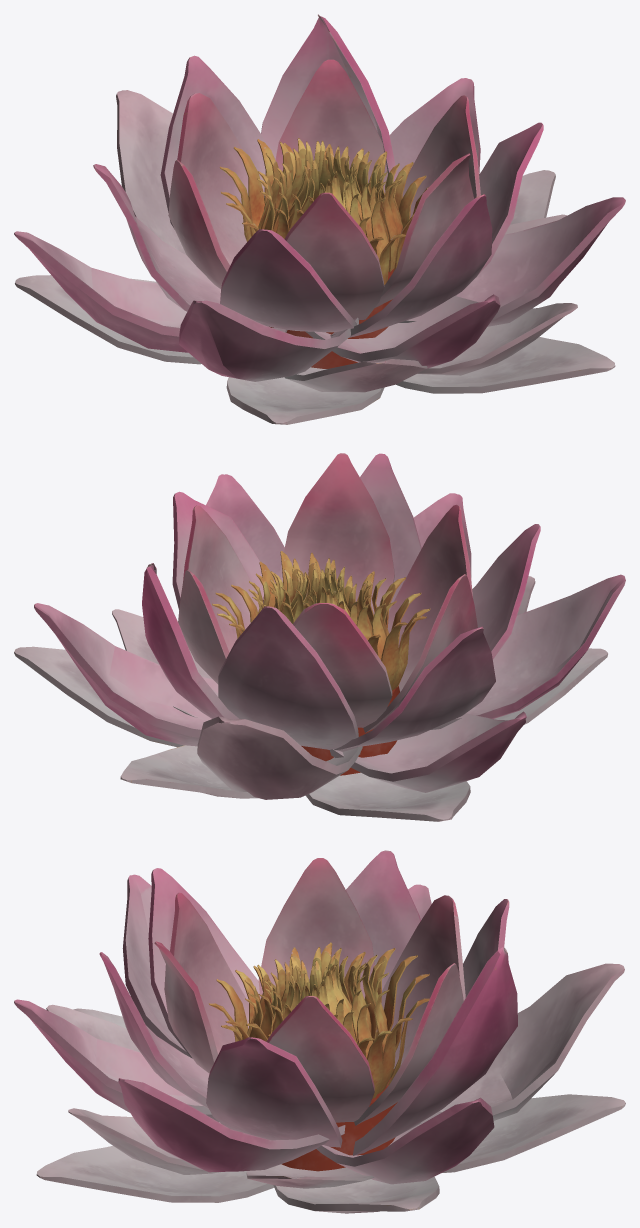
Rendered from lily 3.fbx.
3 renders of one model, top to bottom at view 1: azimuth 30°, elevation 25°; view 2: azimuth 150°, elevation 25°; view 3: azimuth 270°, elevation 25°, orthographic. The views are drawn at different scales.
Visible parts, largest first — view 1: Cube.109; view 2: Cube.109; view 3: Cube.109.
Boxes of the visible parts, <box> form: Cube.109: <box>14,14,625,424</box>; Cube.109: <box>14,453,625,821</box>; Cube.109: <box>14,850,625,1213</box>.
Bounding box in the file's own units: 1094 × 480 × 1085.
